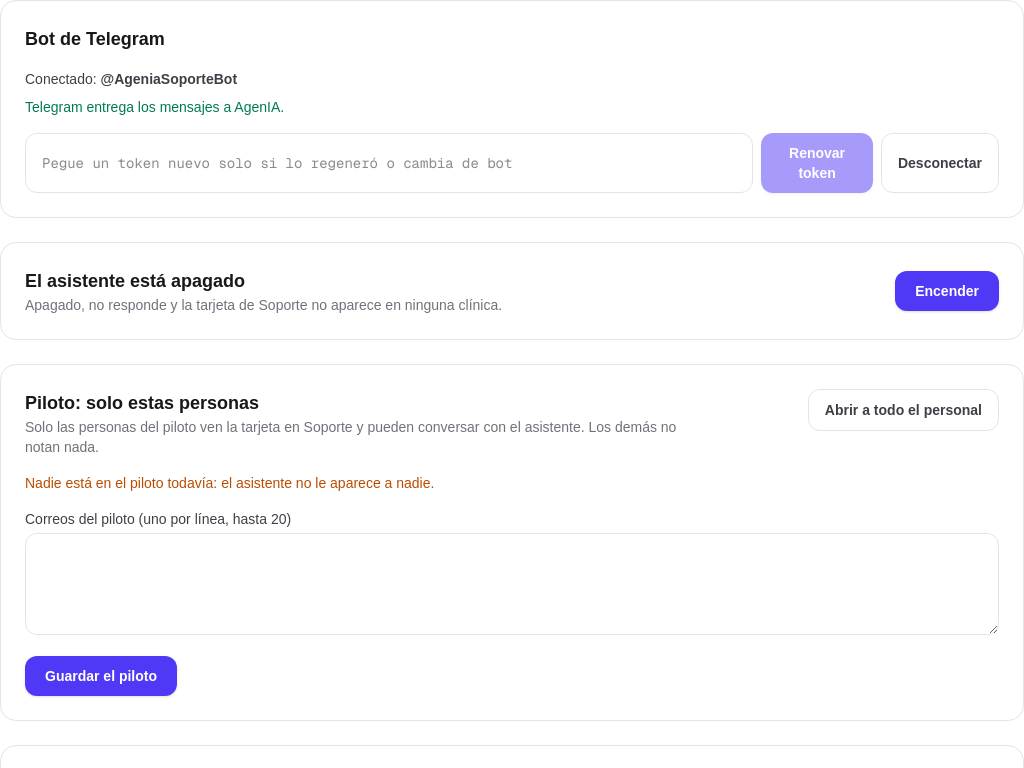
Test: SoporteBotClient › desconectar pide confirmación
Click the button "Desconectar" at {"x": 940, "y": 163}, box [881, 133, 999, 193]
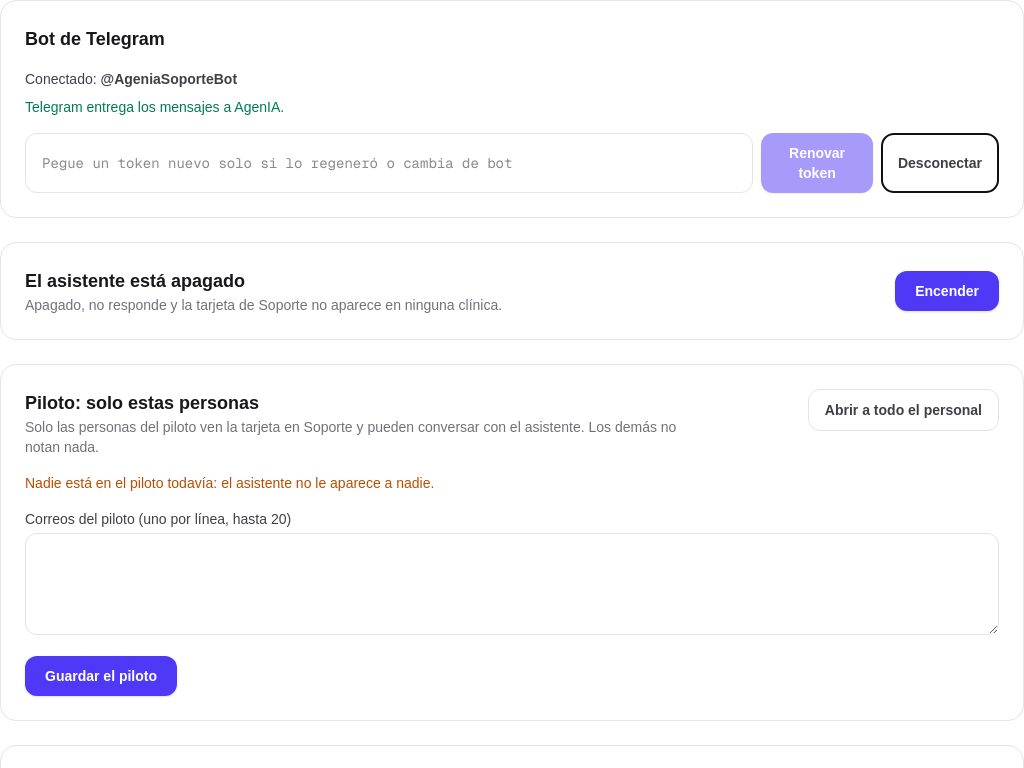
Click the button "Desconectar" at {"x": 940, "y": 163}, box [881, 133, 999, 193]
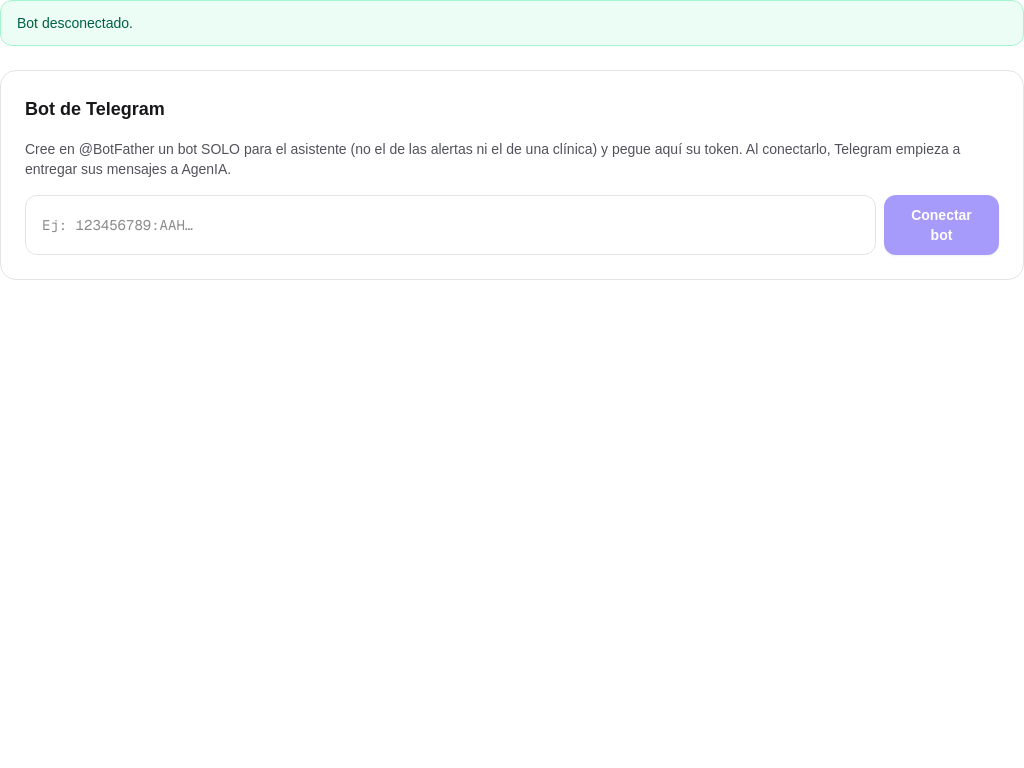
Check: the button "Conectar bot" is shown, box [884, 195, 999, 255]
